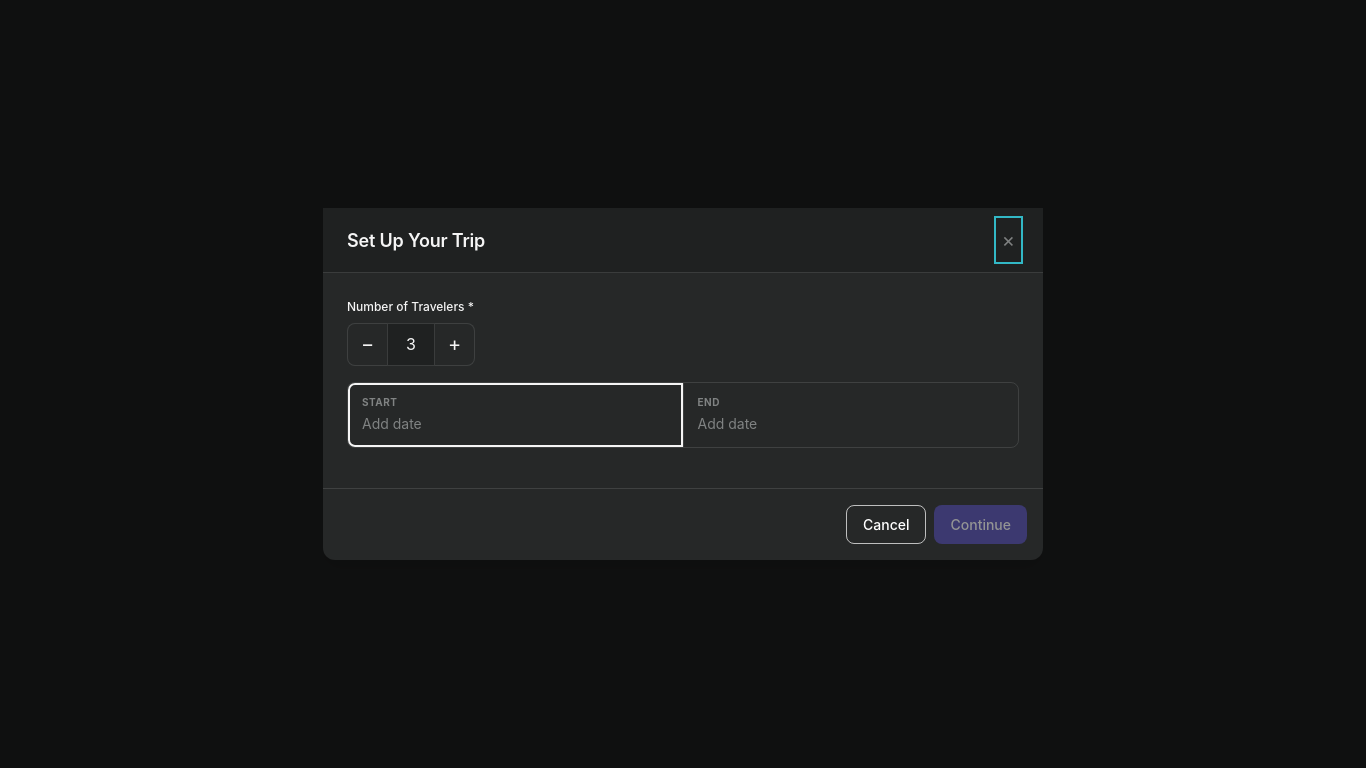
Test: travelers stepper: plus/minus adjust the count and minus disables at 1
The width and height of the screenshot is (1366, 768).
Expected: the number field labelled "Number of Travelers *" holds "3", [387,323,435,366]
Click the button named "increase travelers": (455, 344) [435,323,475,366]
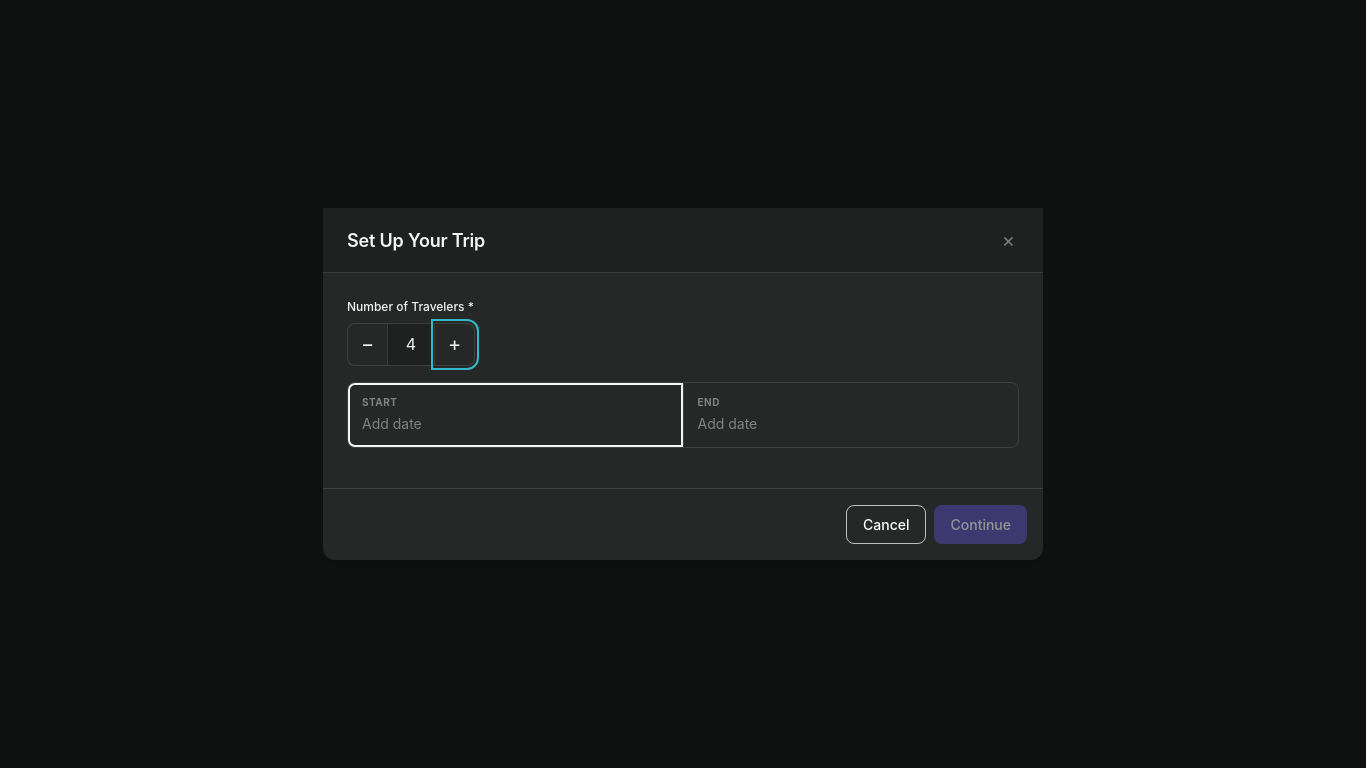
Result: the number field labelled "Number of Travelers *" holds "4" at [387,323,435,366]
Click the button named "decrease travelers": (367, 344) [347,323,387,366]
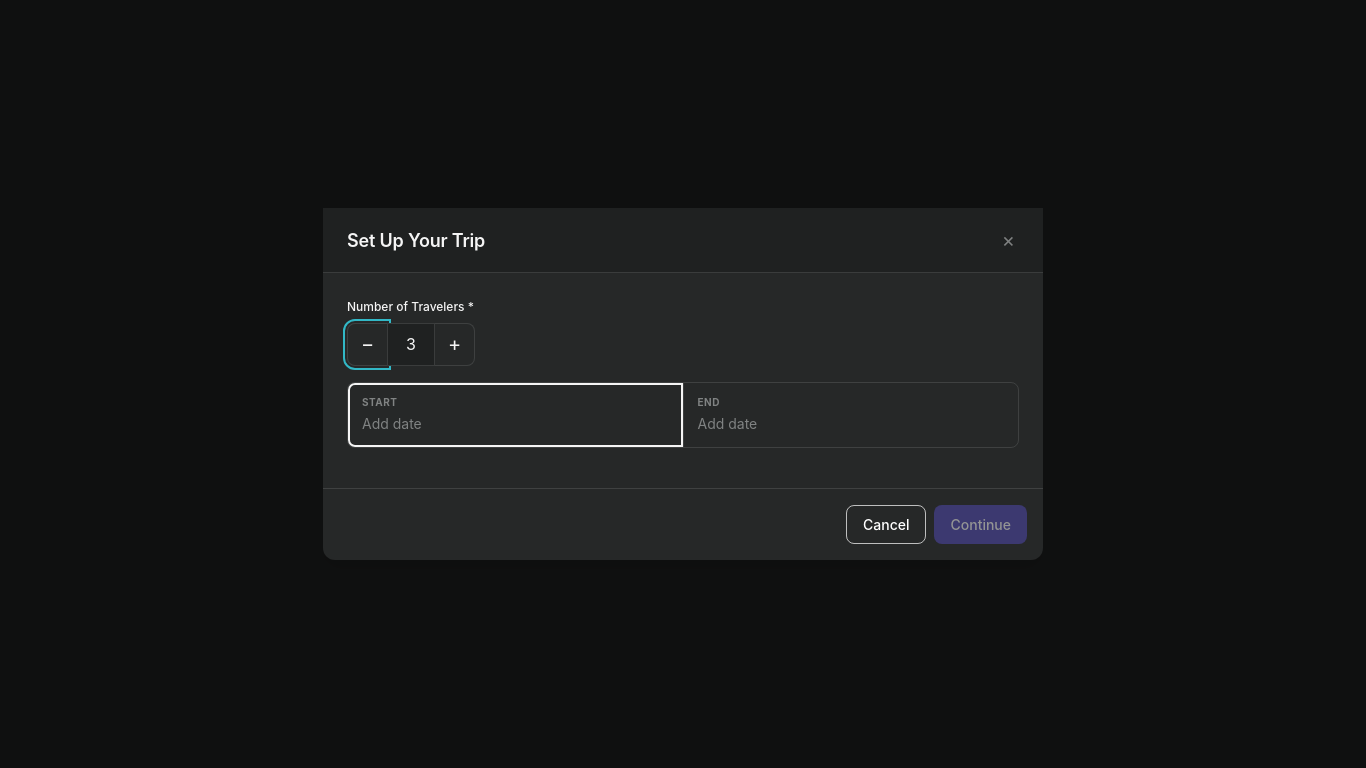
Click the button named "decrease travelers": (367, 344) [347,323,387,366]
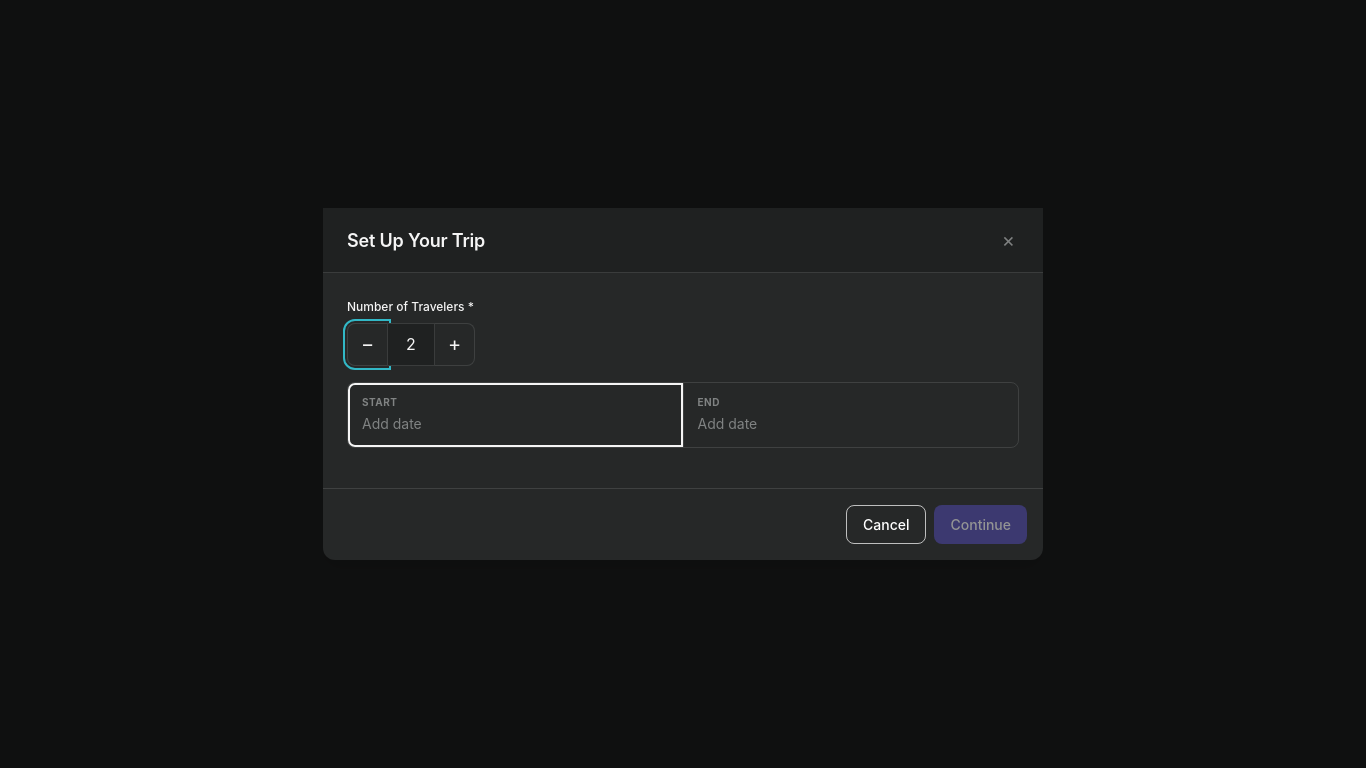
Click the button named "decrease travelers": (367, 344) [347,323,387,366]
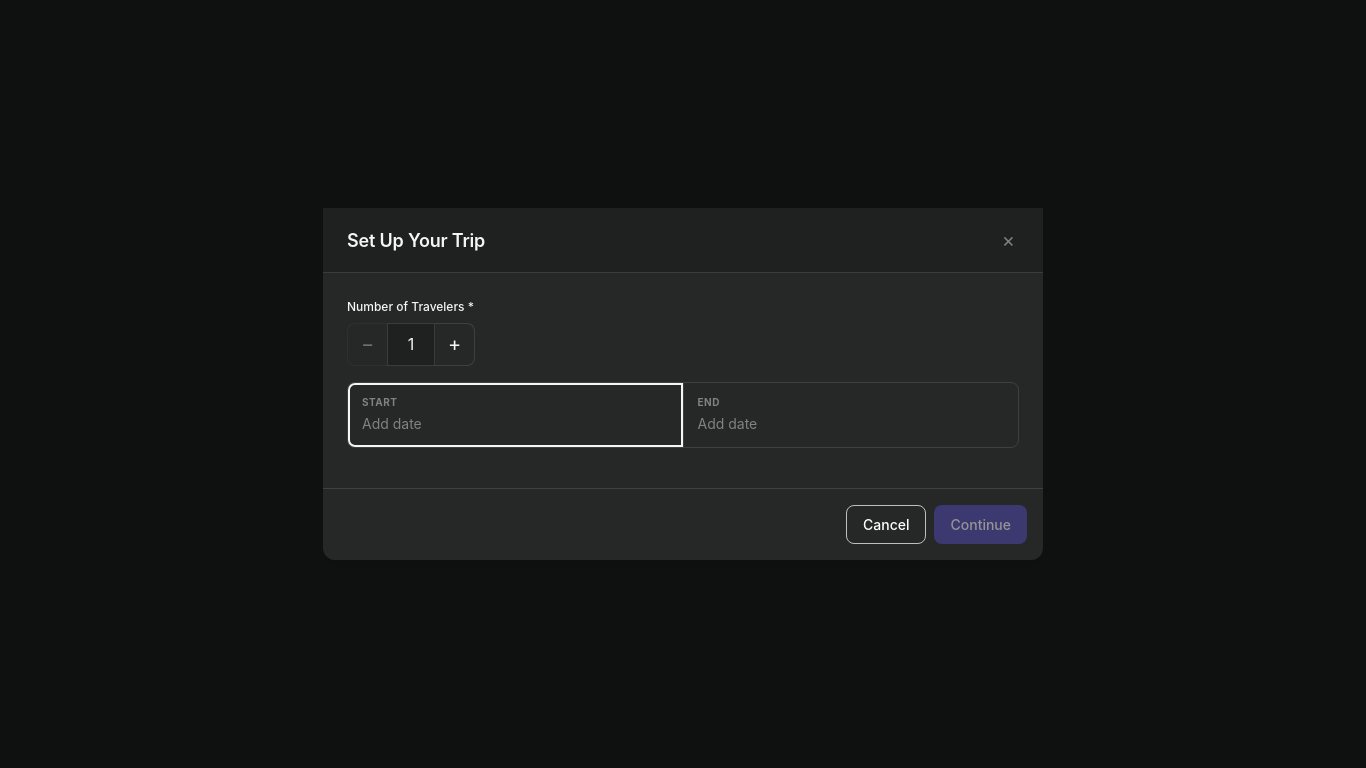
Result: the number field labelled "Number of Travelers *" holds "1" at [387,323,435,366]
